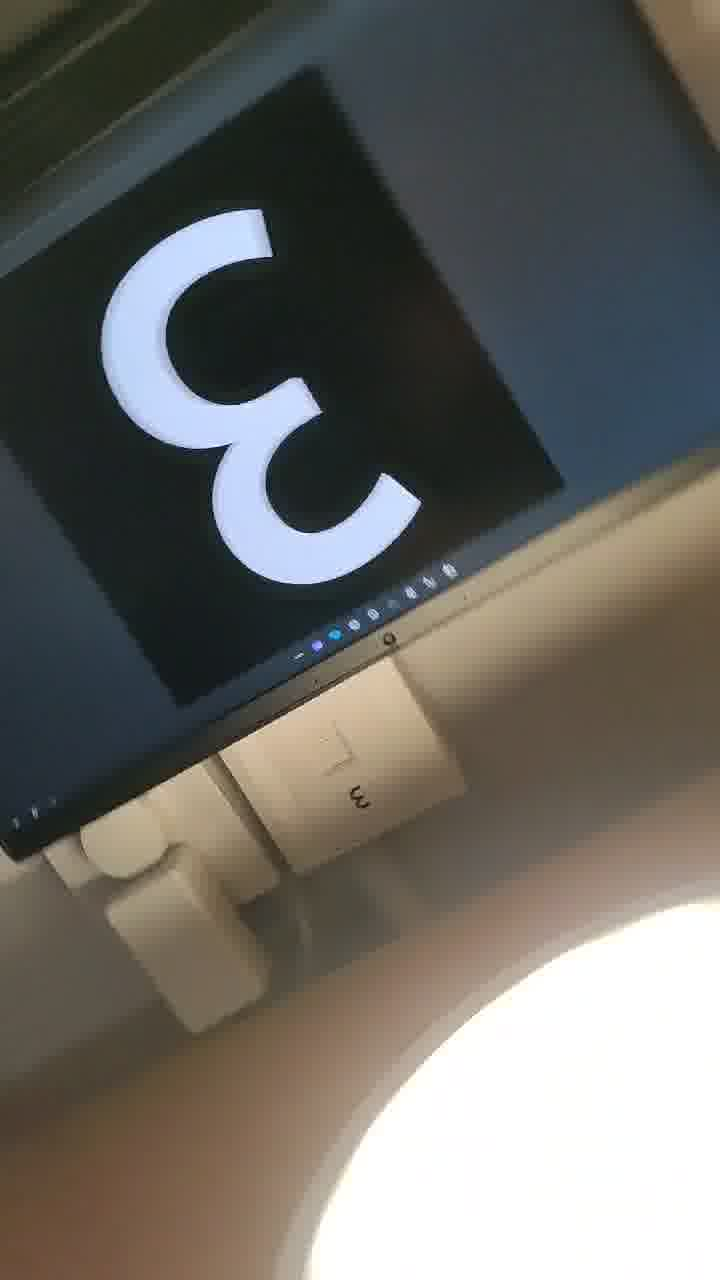three: (87, 184, 450, 636)
